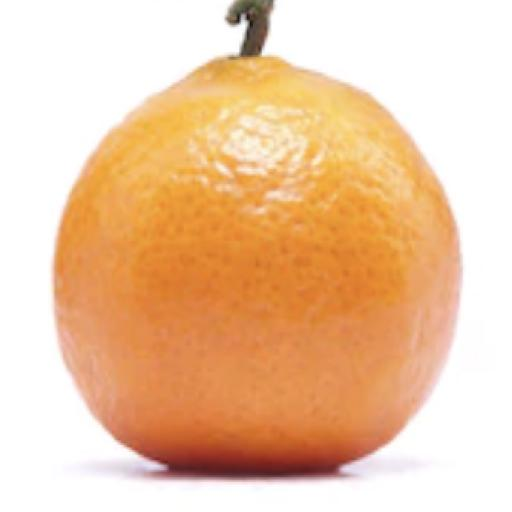orange: (54, 57, 459, 471)
